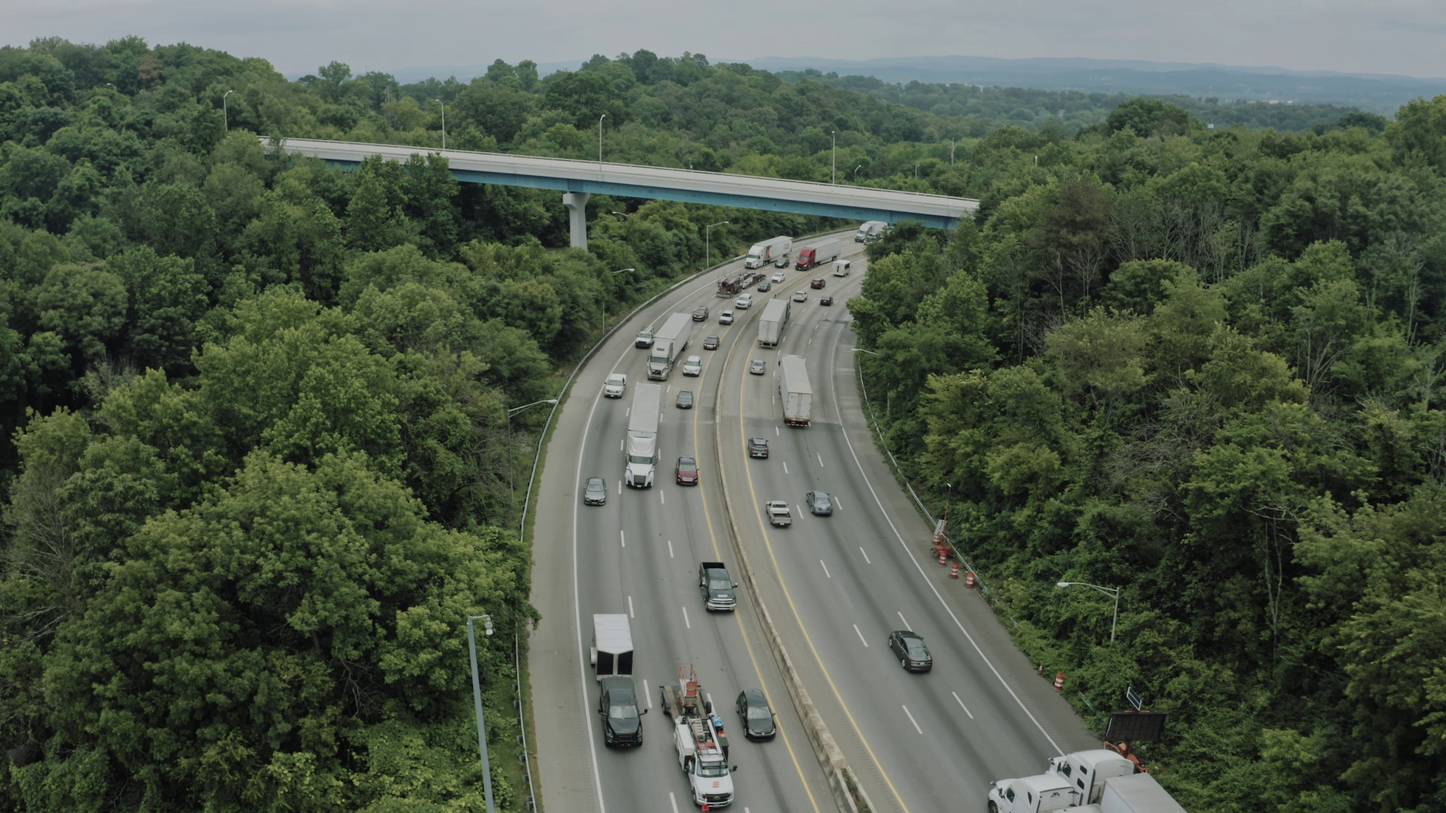Vehicle: (659, 662, 737, 811), (1052, 738, 1147, 806), (598, 675, 647, 749), (985, 775, 1074, 810), (621, 435, 662, 491), (735, 688, 777, 742), (698, 562, 738, 613), (888, 630, 933, 673), (647, 339, 676, 385), (775, 351, 807, 384), (762, 499, 796, 530), (771, 298, 791, 348), (675, 455, 699, 486), (794, 245, 820, 273), (806, 490, 833, 516), (583, 477, 607, 506), (743, 244, 769, 269), (716, 275, 743, 299), (604, 373, 626, 398), (635, 325, 655, 349), (748, 437, 769, 459), (683, 355, 702, 377), (676, 389, 694, 409), (832, 259, 852, 277), (735, 293, 753, 309), (692, 306, 709, 322), (855, 225, 873, 240), (865, 232, 881, 248), (703, 335, 720, 350), (719, 310, 735, 325), (750, 360, 766, 375), (810, 278, 826, 290), (793, 290, 808, 302), (771, 272, 786, 283), (757, 281, 771, 292), (775, 258, 789, 268), (820, 296, 833, 306)
